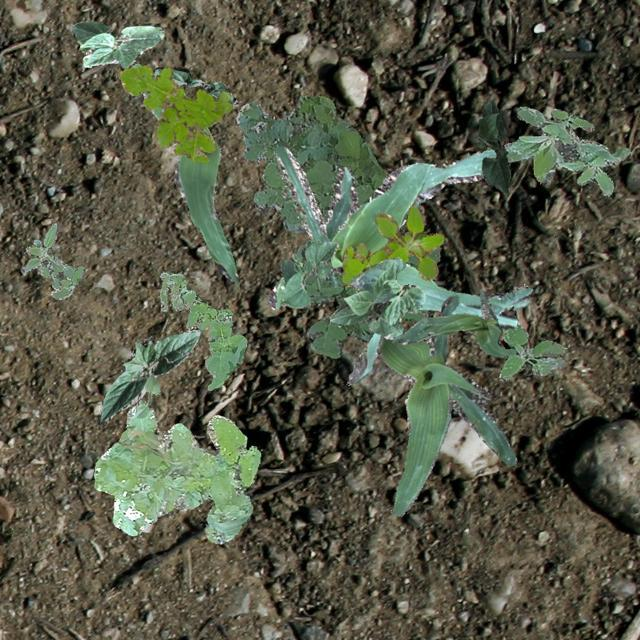crop: (268, 142, 532, 328), (346, 294, 516, 516), (130, 63, 238, 284), (96, 328, 200, 424), (390, 289, 514, 356), (328, 255, 424, 338), (72, 19, 162, 68), (280, 238, 338, 308), (152, 66, 236, 106), (476, 98, 509, 194), (134, 376, 160, 416)
weed: (236, 95, 440, 356), (93, 403, 260, 543), (116, 64, 232, 162), (504, 106, 630, 196), (158, 270, 245, 390), (342, 204, 442, 286), (20, 220, 84, 298), (498, 320, 566, 380)
